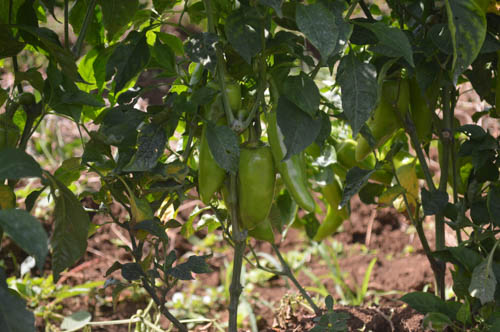ChiliPepper: (190, 81, 239, 210), (354, 79, 410, 166), (271, 111, 314, 211), (240, 143, 277, 231), (408, 70, 439, 145), (319, 174, 350, 216), (317, 204, 343, 251), (337, 140, 374, 172)
